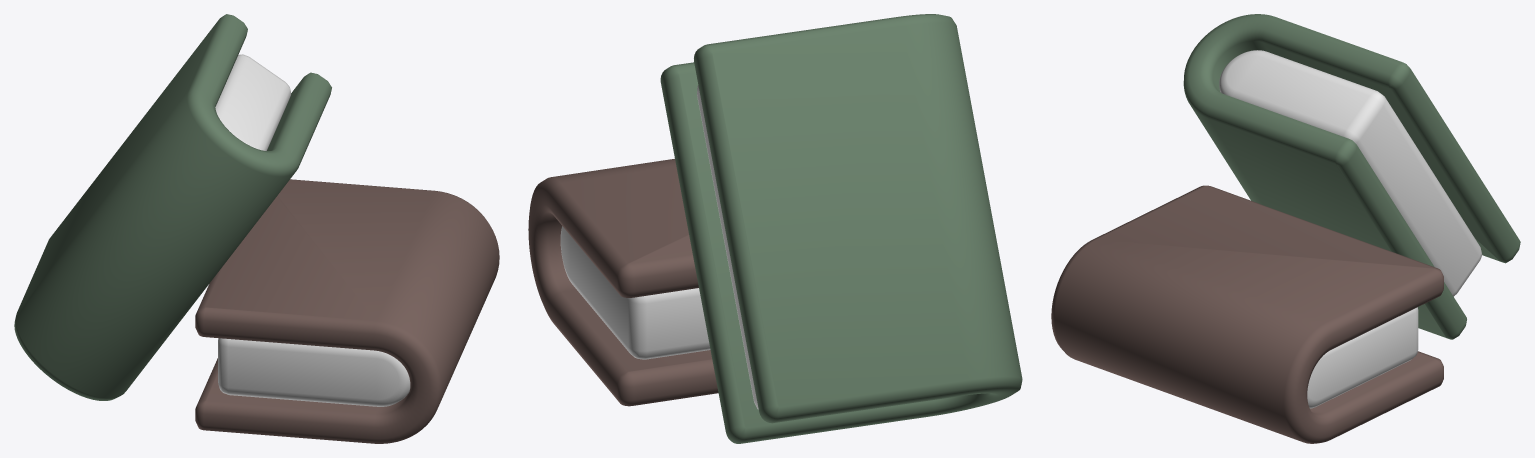
The model's file is bookstack.fbx.
3 renders of one model, left to right at view 1: azimuth 30°, elevation 25°; view 2: azimuth 150°, elevation 25°; view 3: azimuth 270°, elevation 25°, orthographic. The views are drawn at different scales.
Visible parts, largest first — view 1: Book_Lean, Book_Lean_01_Paper, Book_Lean_02_Paper; view 2: Book_Lean, Book_Lean_01_Paper, Book_Lean_02_Paper; view 3: Book_Lean, Book_Lean_02_Paper, Book_Lean_01_Paper.
Part boxes in pixels (x1,y1,x2,y2): Book_Lean: (14, 14, 499, 443); Book_Lean_01_Paper: (218, 338, 410, 406); Book_Lean_02_Paper: (215, 54, 290, 150); Book_Lean: (528, 14, 1022, 443); Book_Lean_01_Paper: (560, 226, 710, 359); Book_Lean_02_Paper: (697, 85, 758, 409); Book_Lean: (1051, 14, 1520, 443); Book_Lean_02_Paper: (1219, 50, 1482, 296); Book_Lean_01_Paper: (1307, 307, 1418, 408).
Size of the model in its own units: 79.94 by 53.48 by 75.57.
